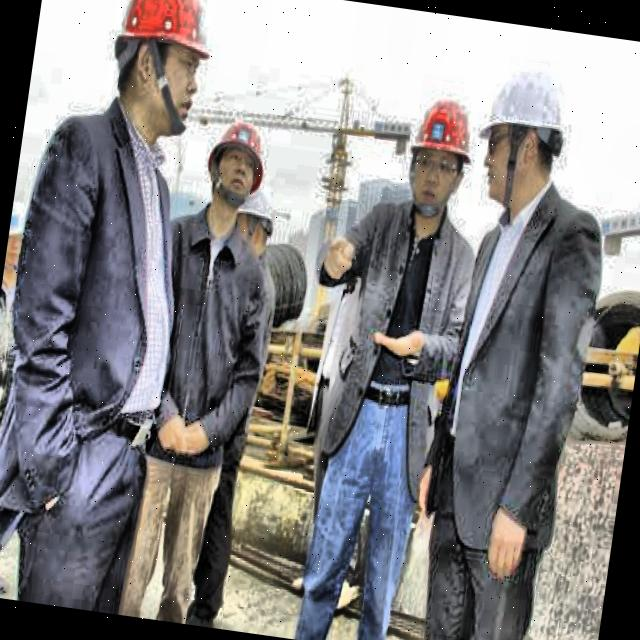helmet: (100, 0, 222, 144), (475, 52, 578, 214), (398, 84, 482, 219), (198, 114, 272, 214), (228, 183, 282, 260)
